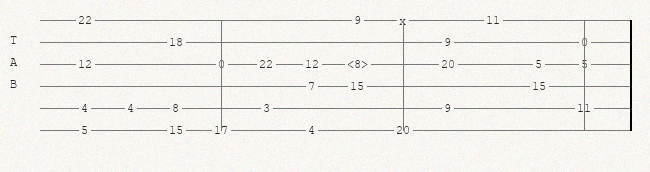0: (218, 58, 229, 70), (581, 36, 592, 48)
11: (486, 14, 504, 26), (577, 102, 595, 114)
12: (78, 58, 96, 70), (305, 58, 323, 70)
15: (169, 124, 187, 136), (350, 80, 368, 92), (532, 80, 550, 92)
17: (214, 124, 232, 136)
18: (169, 36, 187, 48)
20: (396, 124, 414, 136), (441, 58, 459, 70)
22: (78, 14, 96, 26), (259, 58, 277, 70)
3: (263, 102, 274, 114)
4: (81, 102, 92, 114), (127, 102, 138, 114), (308, 124, 319, 136)
5: (81, 124, 92, 136), (535, 58, 546, 70), (581, 58, 592, 70)
7: (308, 80, 319, 92)
8: (172, 102, 183, 114)
9: (354, 14, 365, 26), (444, 36, 455, 48), (444, 102, 455, 114)
harmonic: (347, 58, 372, 71)
x: (399, 15, 410, 25)
